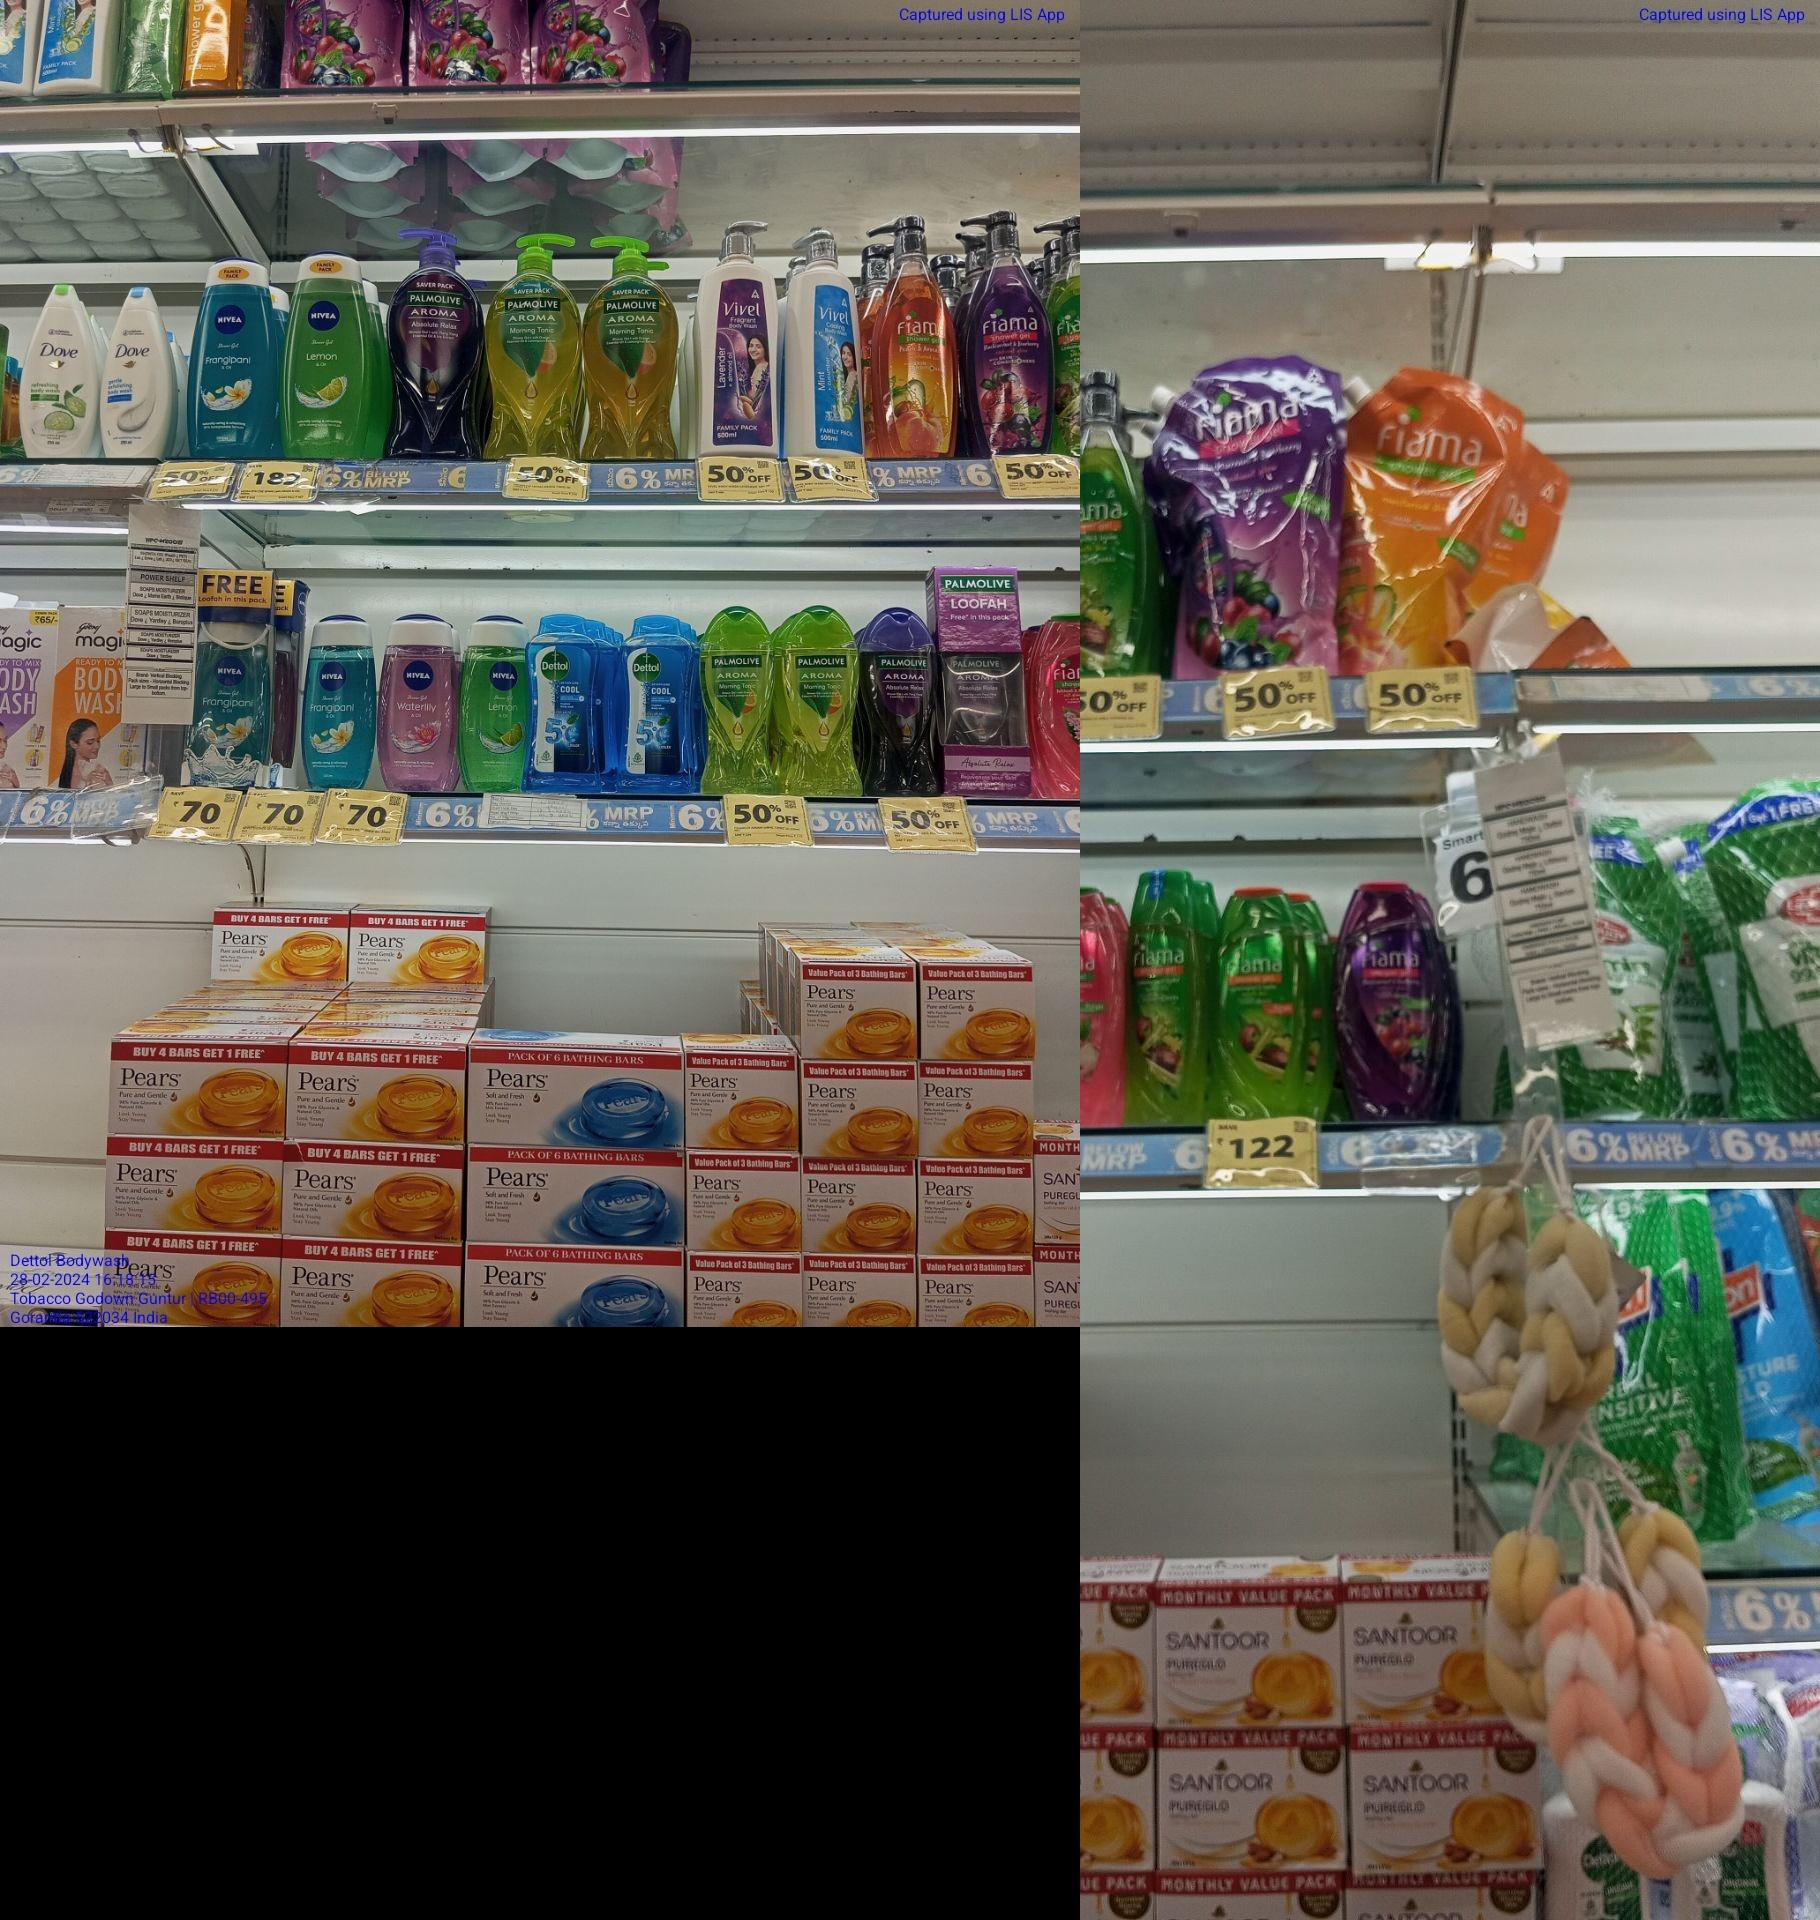Dettol_Bodywash_Cool: (616, 613, 696, 797), (529, 613, 600, 794)
Dove_Gentle_Exfoliating_Body_Wash_250ML: (103, 286, 168, 460)
Dove_Refreshing_Body_Wash_250ML: (24, 279, 96, 457)
Fiama_Shower_Gel_Lemongrass_and_Jojoba_250ML: (1216, 888, 1309, 1135), (1126, 868, 1209, 1128)
Nivea_Shower_Gel_Frangipani_and_Oil_250ML: (193, 255, 277, 460), (299, 613, 375, 794)
Nivea_Shower_Gel_Lemon_and_Oil_250ML: (281, 255, 378, 460), (462, 614, 529, 796)
Nivea_Shower_Gel_Waterlily_and_Oil_250ML: (381, 618, 455, 791)
Palmolive_Aroma_Morning_Tonic_Shower_Gel_250ML: (705, 607, 780, 803), (789, 606, 859, 801)
